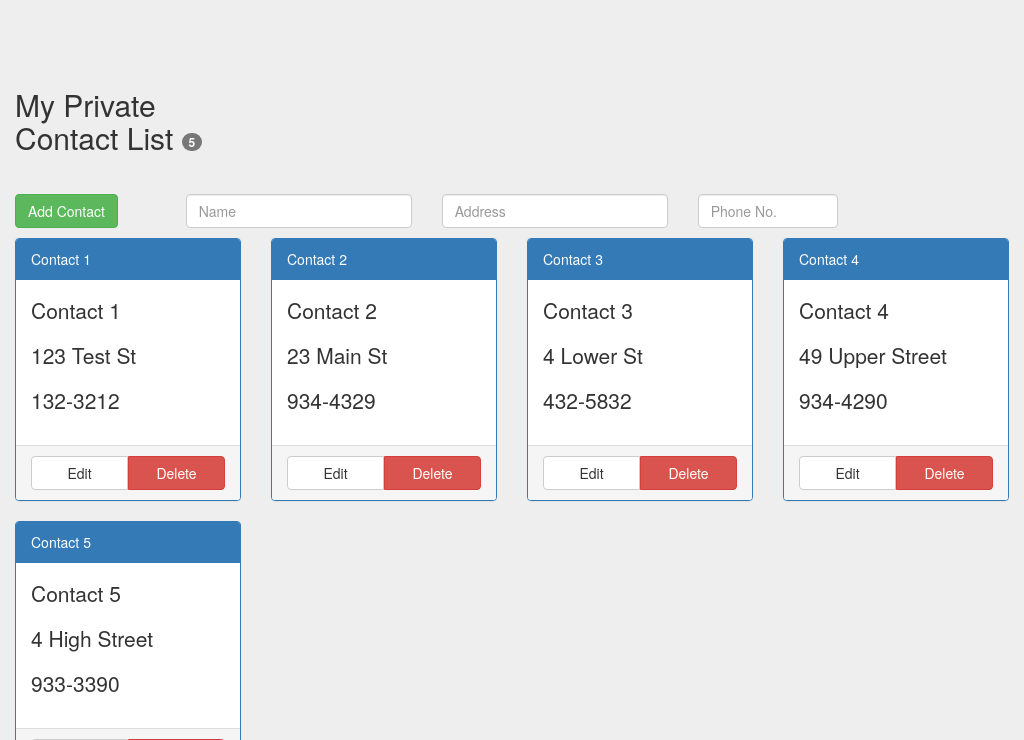
Test case: Contact Edit › allows a contact's address be edited
Click the button "Edit" below "934-4329" at (336, 473), box [287,456,384,490]
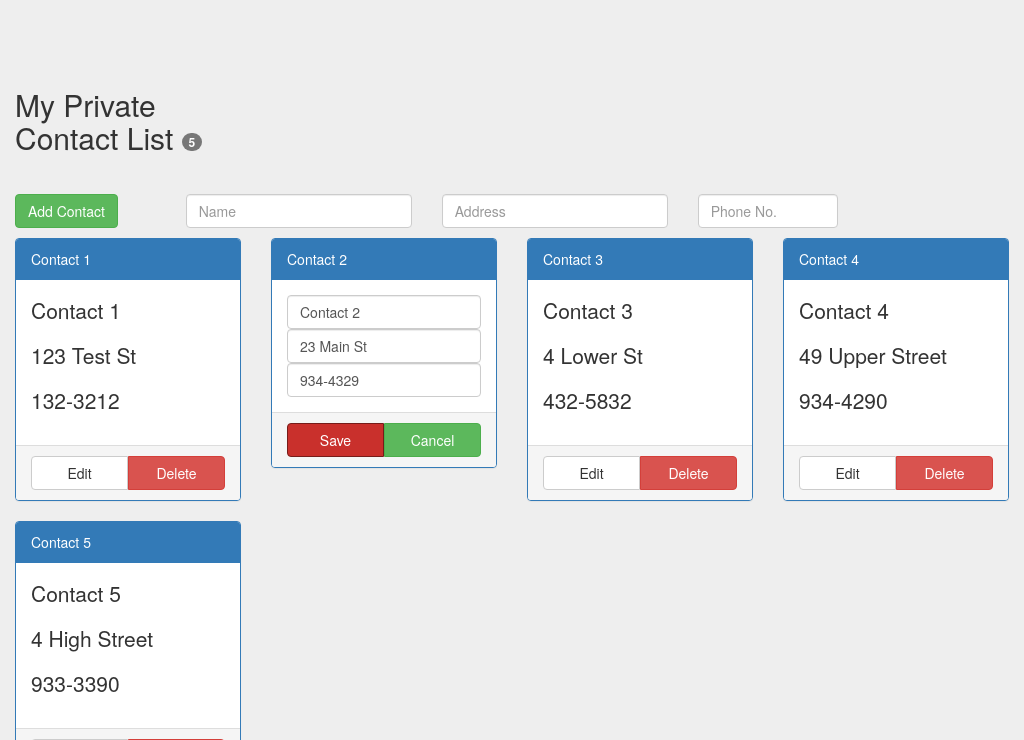
Replace the text in the 5th field with "22 low Street" at (384, 346), box [287,329,481,363]
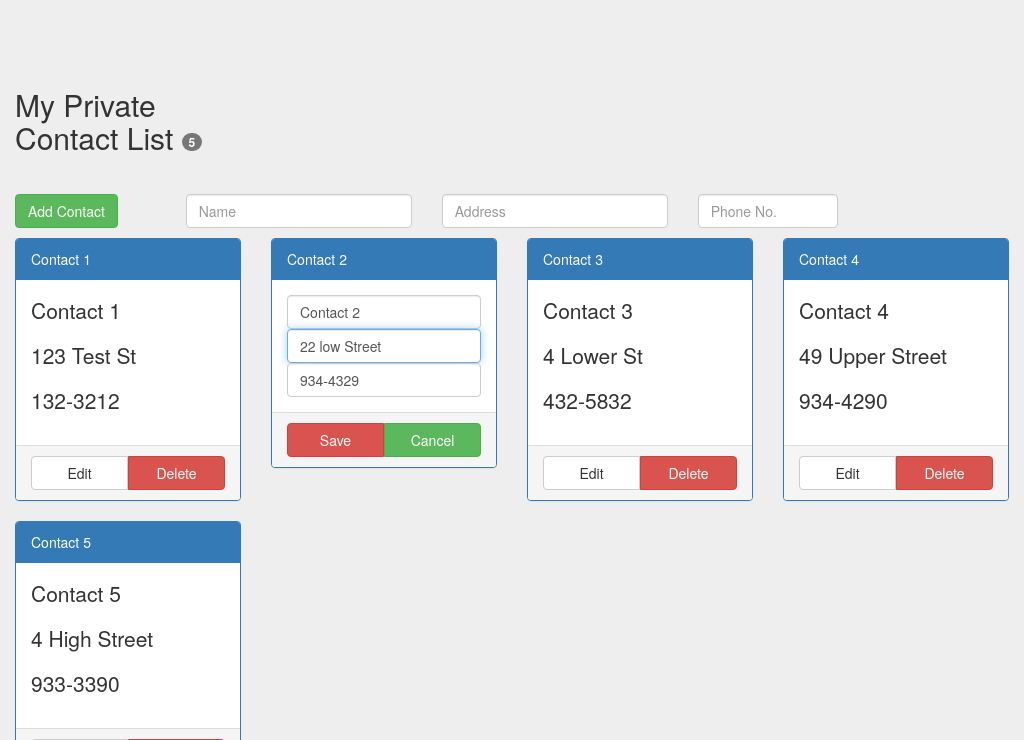
Click the button "Save" at (336, 440), box [287,423,384,457]
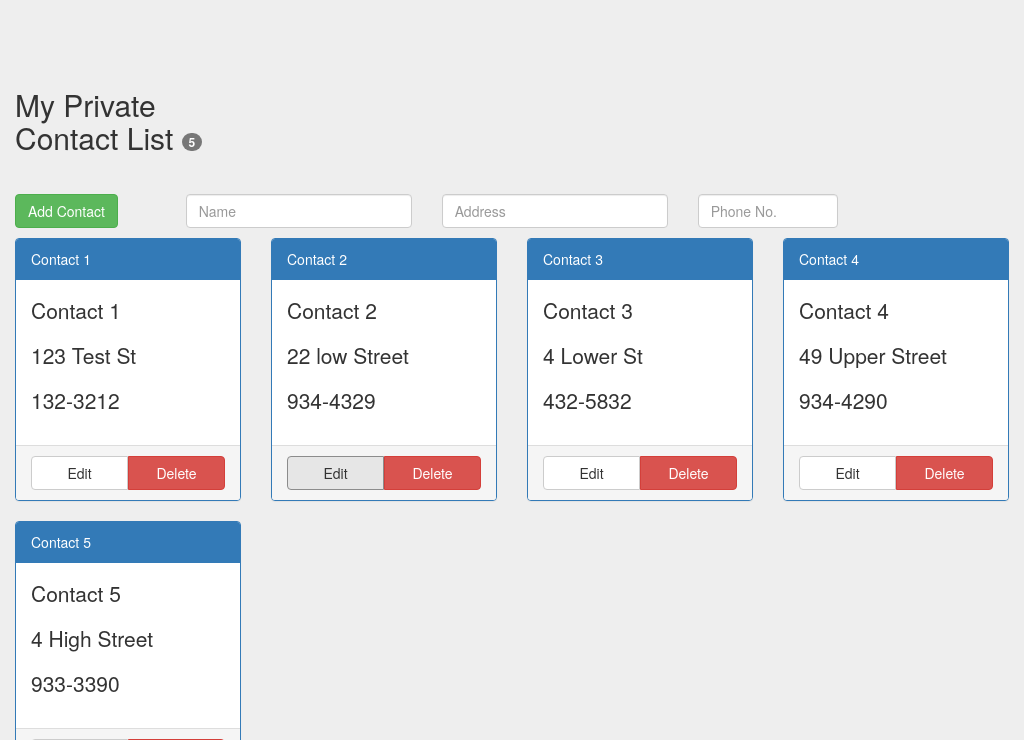
Check: the text "22 low Street" is shown, box [287,340,409,370]
